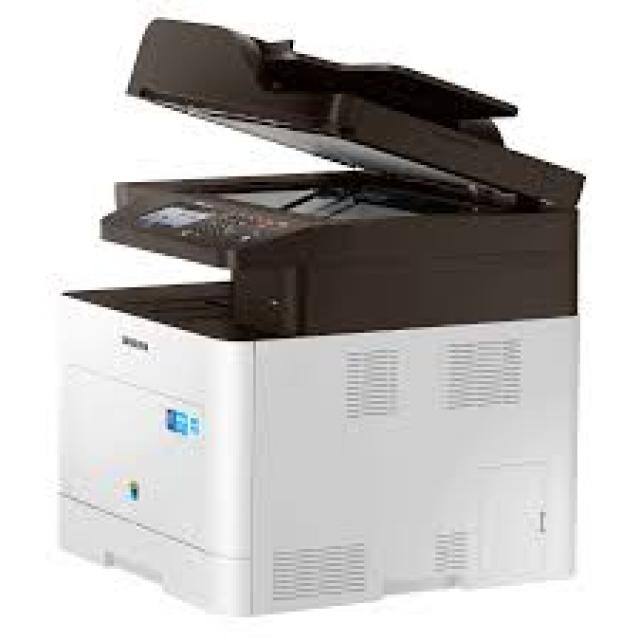printer: (47, 14, 588, 623)
